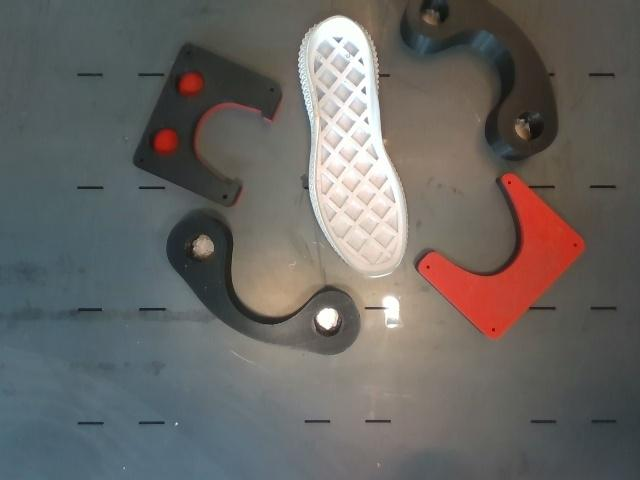shoes: (308, 17, 405, 277)
